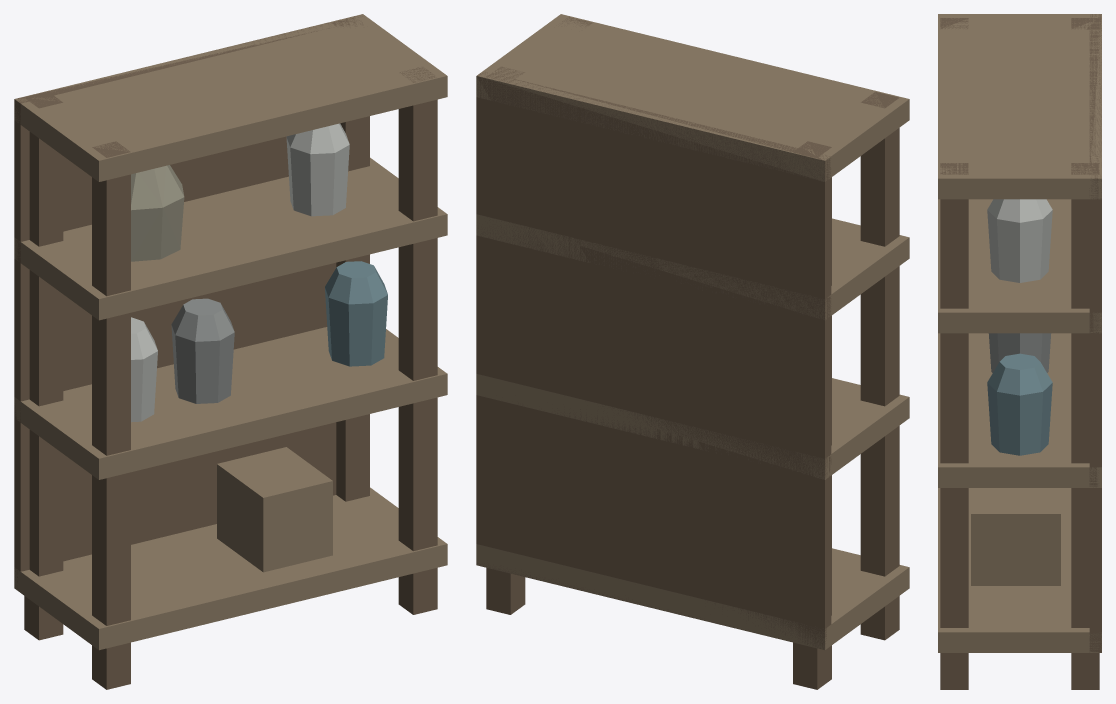
File: small_shelf.glb
The picture shows the model from 3 angles, left to right: view 1: azimuth 30°, elevation 25°; view 2: azimuth 150°, elevation 25°; view 3: azimuth 270°, elevation 25°; orthographic projection. The views are drawn at different scales.
Parts seen in each view (by area): view 1: small_shelf; view 2: small_shelf; view 3: small_shelf.
Boxes of the visible parts, left/top/right/bottom form: small_shelf: left=14, top=14, right=447, bottom=689; small_shelf: left=476, top=14, right=909, bottom=689; small_shelf: left=938, top=14, right=1101, bottom=689.
Bounding box in the file's own units: 0.96 × 1.4 × 0.4032.
